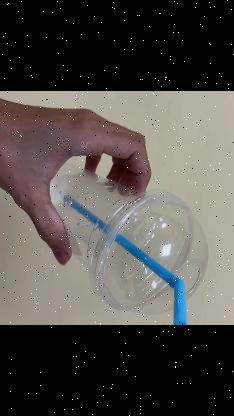Others: (46, 164, 210, 315)
